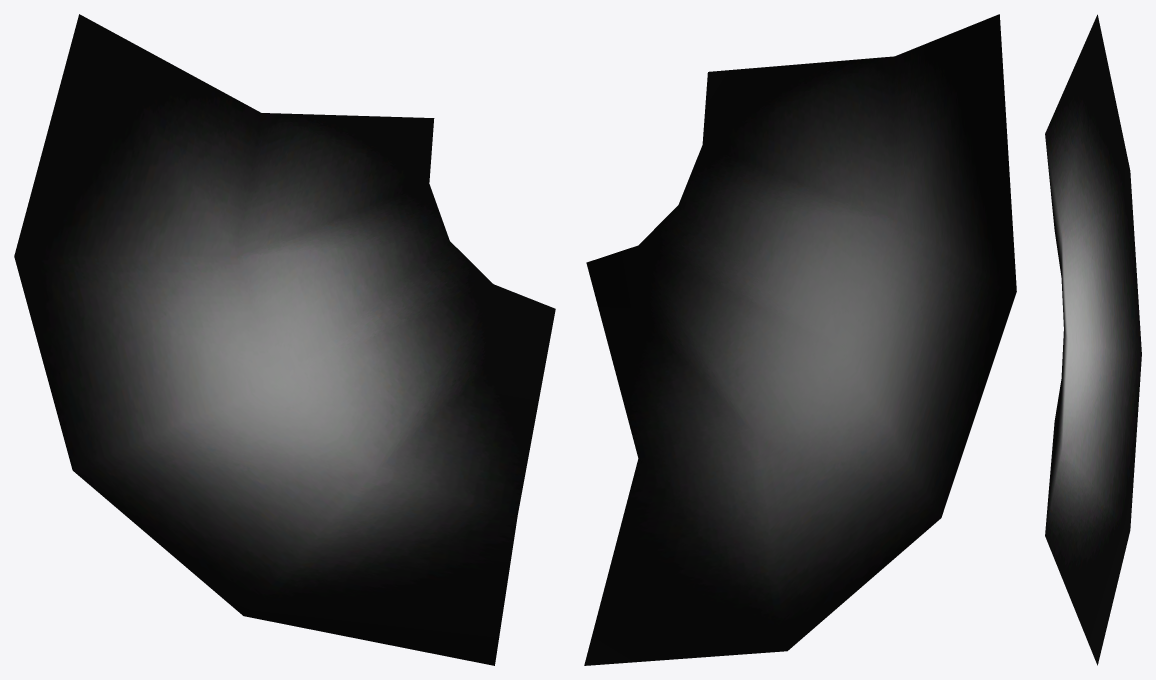
File: vfx_kurp_0821.dae
3 renders of one model, left to right at view 1: azimuth 30°, elevation 25°; view 2: azimuth 150°, elevation 25°; view 3: azimuth 270°, elevation 25°, orthographic. The views are drawn at different scales.
Visible parts, largest first — view 1: vfx_kurp_0821; view 2: vfx_kurp_0821; view 3: vfx_kurp_0821.
Part boxes in pixels (x1=…): vfx_kurp_0821: x1=14, y1=14, x2=555, y2=665; vfx_kurp_0821: x1=584, y1=14, x2=1016, y2=665; vfx_kurp_0821: x1=1045, y1=14, x2=1141, y2=665.
Size of the model in its own units: 4.04 by 1.02 by 5.98.
Materials: 1 (1 with a texture image).
